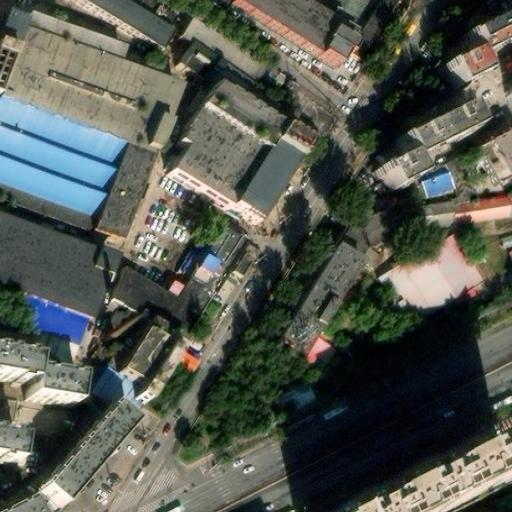building: (162, 96, 307, 234), (0, 112, 122, 220), (0, 224, 117, 333), (230, 0, 392, 73), (272, 249, 361, 368), (110, 253, 223, 344), (360, 447, 501, 512), (31, 409, 122, 509), (92, 159, 152, 251), (71, 0, 168, 54), (23, 18, 120, 71), (117, 326, 178, 400), (12, 308, 83, 365), (389, 103, 465, 156), (333, 213, 397, 263), (106, 316, 152, 376), (187, 225, 240, 276), (200, 68, 255, 117), (91, 375, 144, 419), (141, 360, 182, 412), (474, 124, 512, 178), (397, 204, 463, 235), (175, 34, 217, 77), (22, 375, 71, 407), (460, 197, 509, 225), (454, 22, 492, 57), (273, 383, 311, 418), (437, 53, 473, 87), (371, 152, 407, 185), (420, 171, 454, 203), (482, 8, 512, 44), (0, 426, 27, 460), (488, 434, 512, 472), (306, 335, 331, 364), (115, 56, 137, 73), (503, 80, 512, 103)
